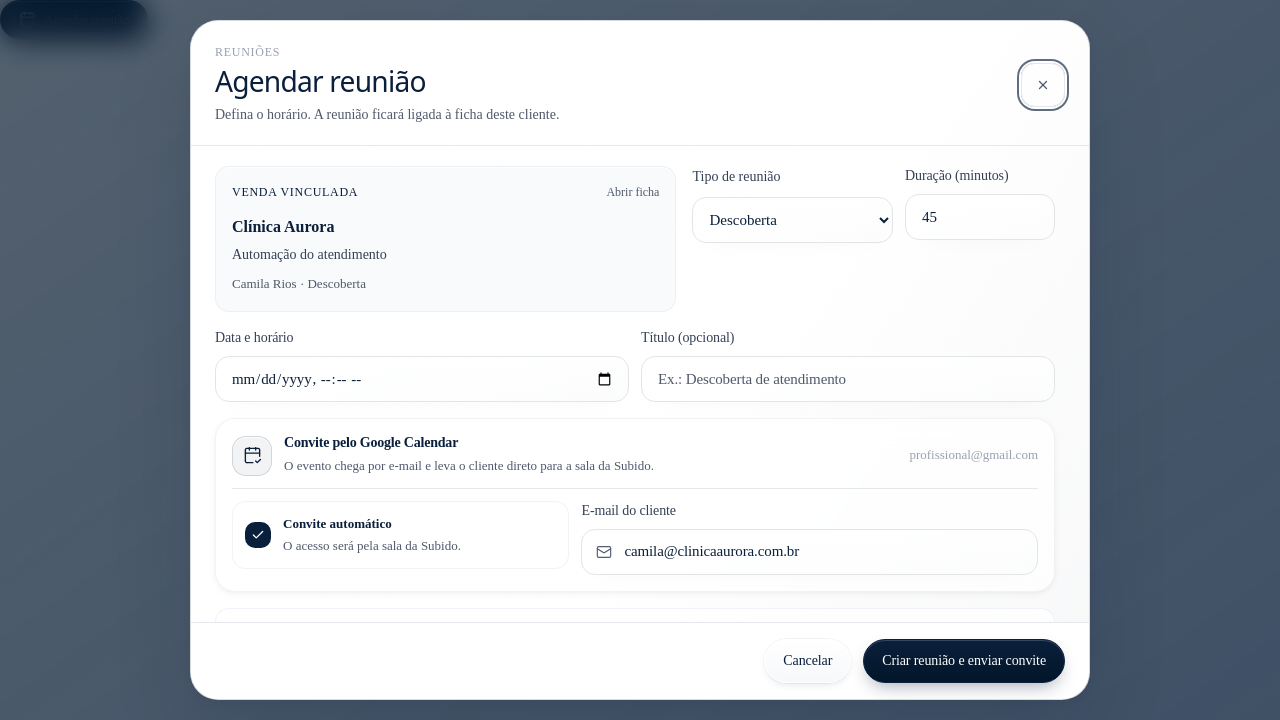
FormularioAgendarCall › preserva os campos após falha de rede sem repetir o convite
This screenshot has width=1280, height=720.
In the field labelled "Data e horário": (422, 379) top-left (230, 368), bottom-right (614, 391), type "2026-11-10T10:30"
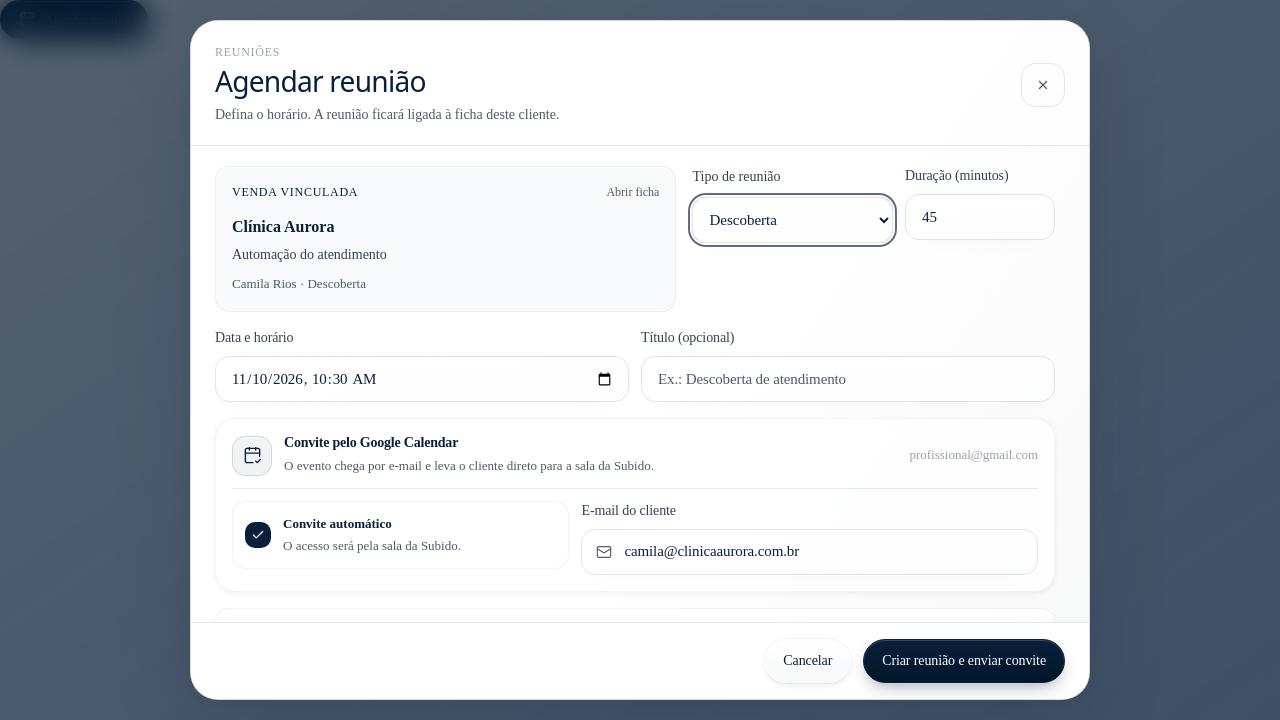
Replace the text in the number field labelled "Duração (minutos)" with "60": (980, 217) top-left (920, 206), bottom-right (1040, 229)
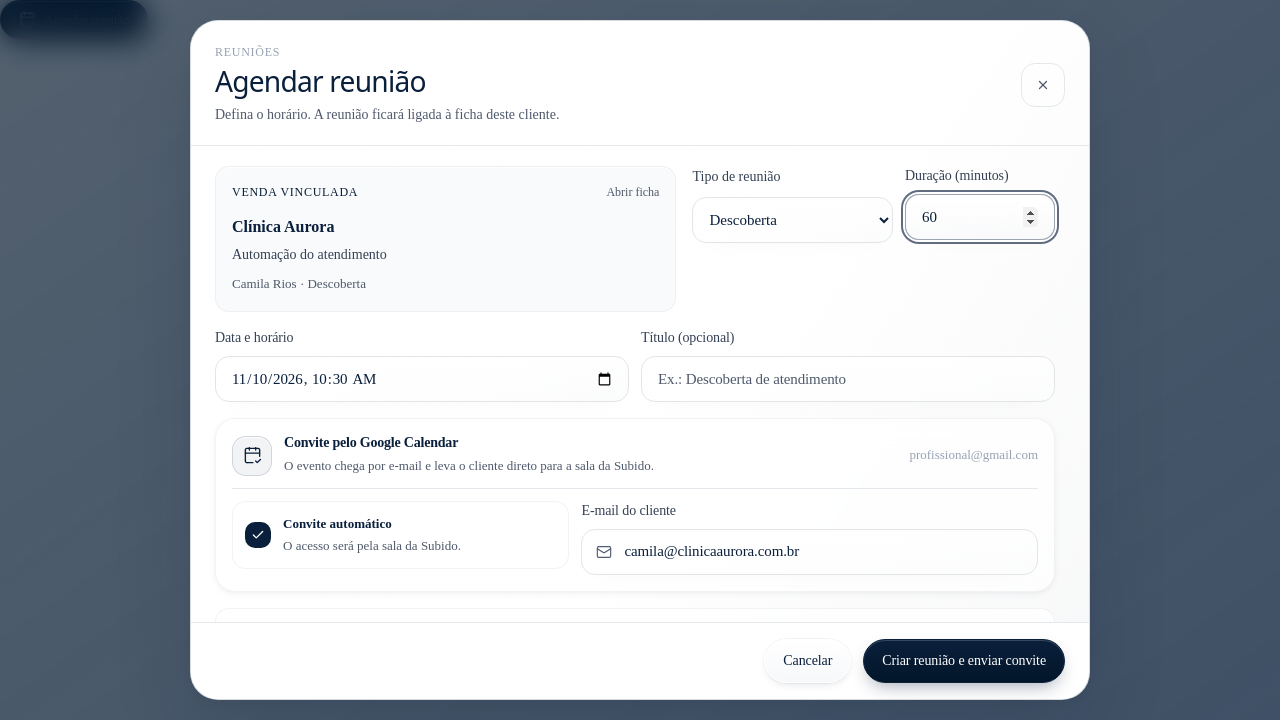
Click the button "Criar reunião e enviar convite": (964, 661) top-left (863, 639), bottom-right (1065, 683)
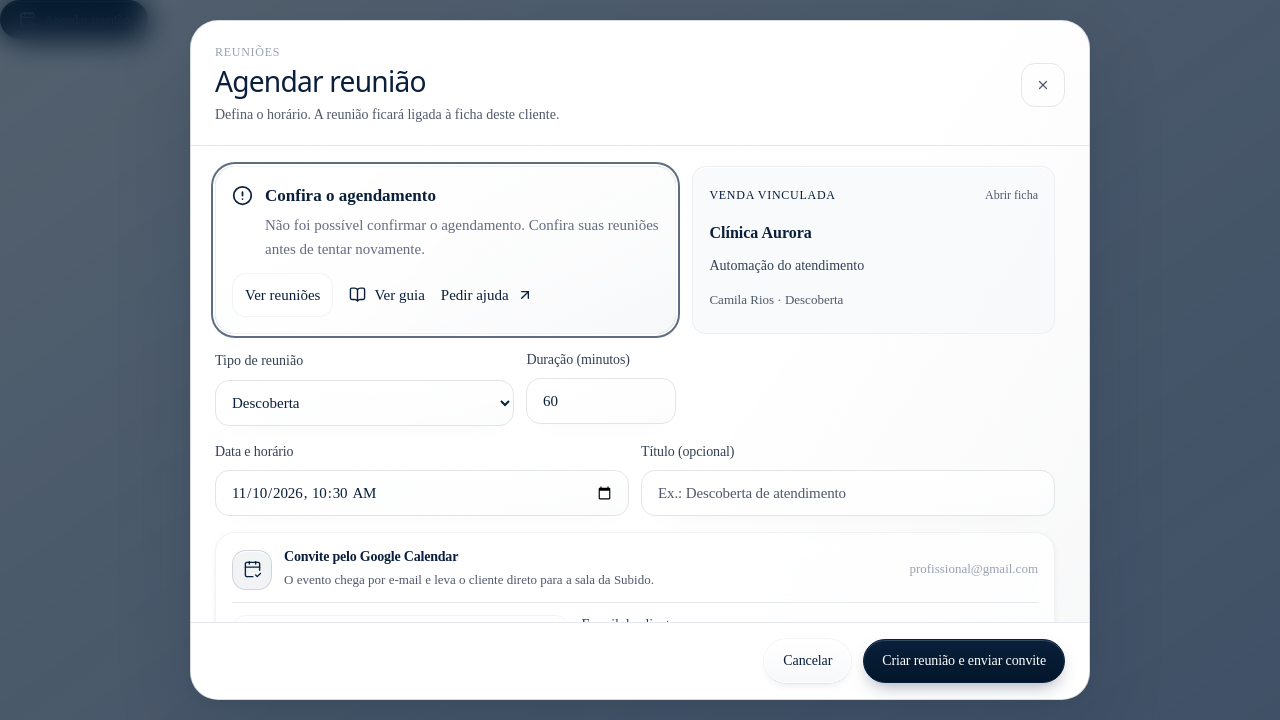
Expected: the message does not show "private credential", top-left (232, 183), bottom-right (659, 261)
Result: the message shows "Confira suas reuniões" at top-left (265, 217), bottom-right (659, 257)
